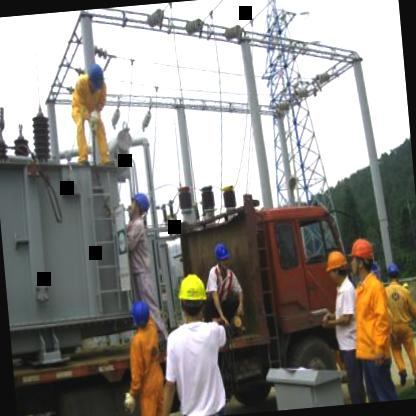helmet: (174, 268, 210, 324), (348, 235, 376, 280), (324, 247, 352, 287), (123, 192, 152, 220), (129, 300, 152, 334), (86, 62, 108, 94), (214, 241, 234, 272), (386, 260, 402, 289)
